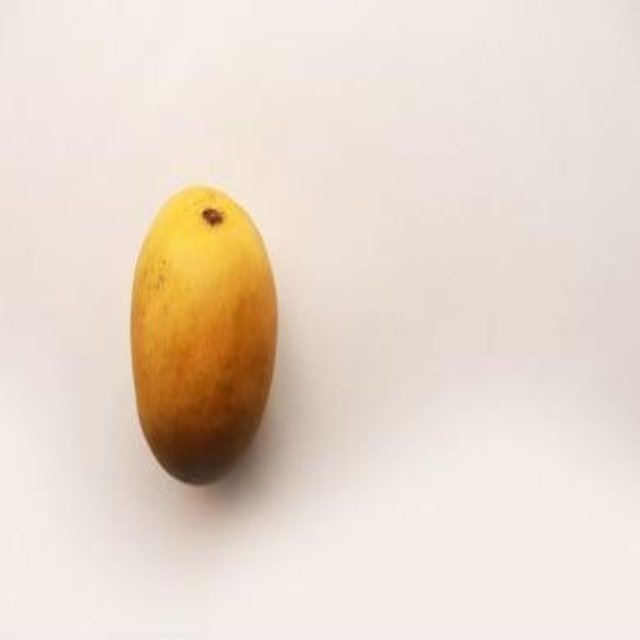mango: (129, 185, 276, 482)
